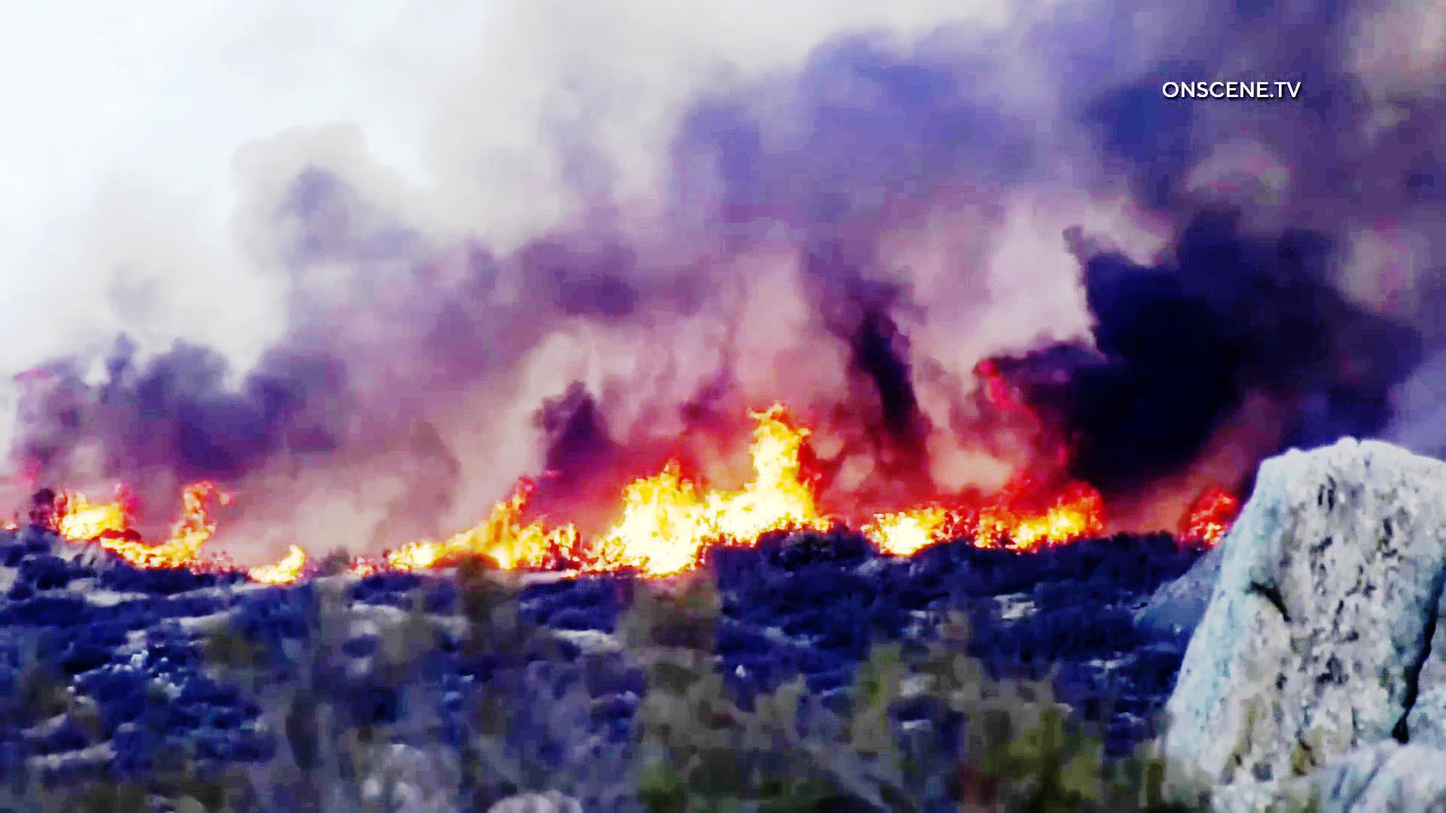fire: (602, 418, 810, 580), (45, 484, 234, 590), (880, 482, 1099, 562), (394, 493, 587, 577)
smoke: (1029, 216, 1205, 486)
